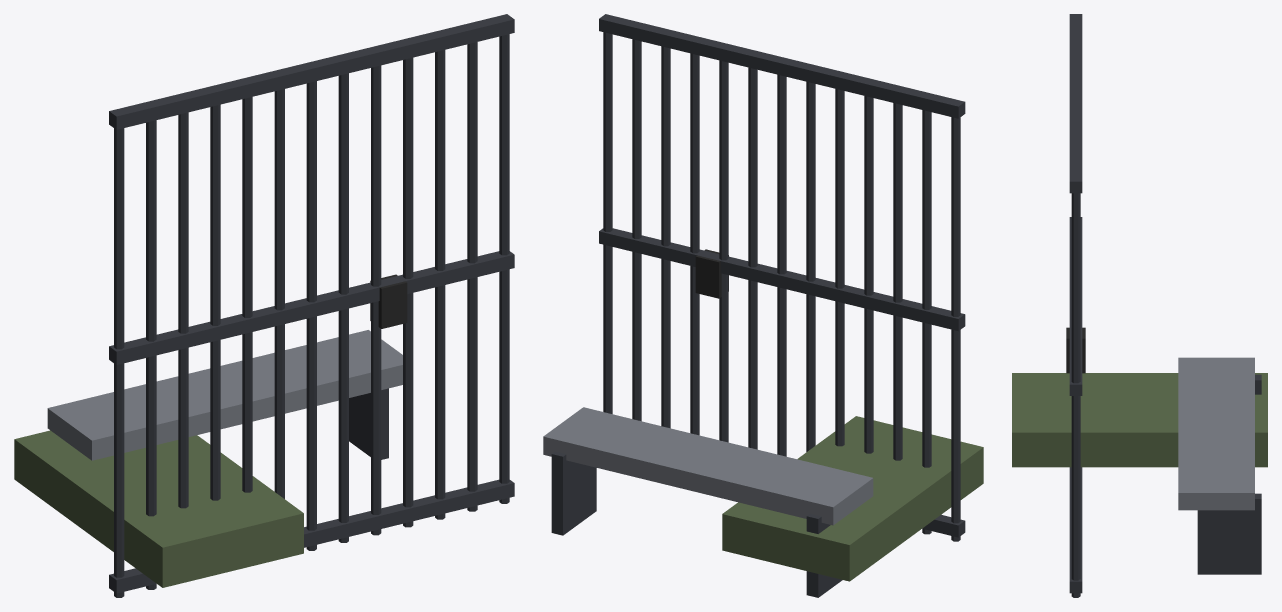
Rendered from cell.glb.
3 renders of one model, left to right at view 1: azimuth 30°, elevation 25°; view 2: azimuth 150°, elevation 25°; view 3: azimuth 270°, elevation 25°, orthographic. The views are drawn at different scales.
Visible parts, largest first — view 1: part-bars, part-cot, part-cell-bench, part-lock; view 2: part-bars, part-cot, part-cell-bench, part-lock; view 3: part-cot, part-bars, part-cell-bench, part-lock.
Boxes of the visible parts, <box> form: part-bars: <box>109,14,514,597</box>; part-cot: <box>14,430,303,587</box>; part-cell-bench: <box>47,330,402,460</box>; part-lock: <box>370,274,407,328</box>; part-bars: <box>551,14,965,597</box>; part-cot: <box>722,416,983,581</box>; part-cell-bench: <box>543,407,873,525</box>; part-lock: <box>695,249,728,298</box>; part-cot: <box>1012,373,1267,467</box>; part-bars: <box>1069,14,1261,597</box>; part-cell-bench: <box>1178,357,1254,510</box>; part-lock: <box>1066,327,1085,373</box>.
Bounding box in the file's own units: 62 × 72 × 40.
